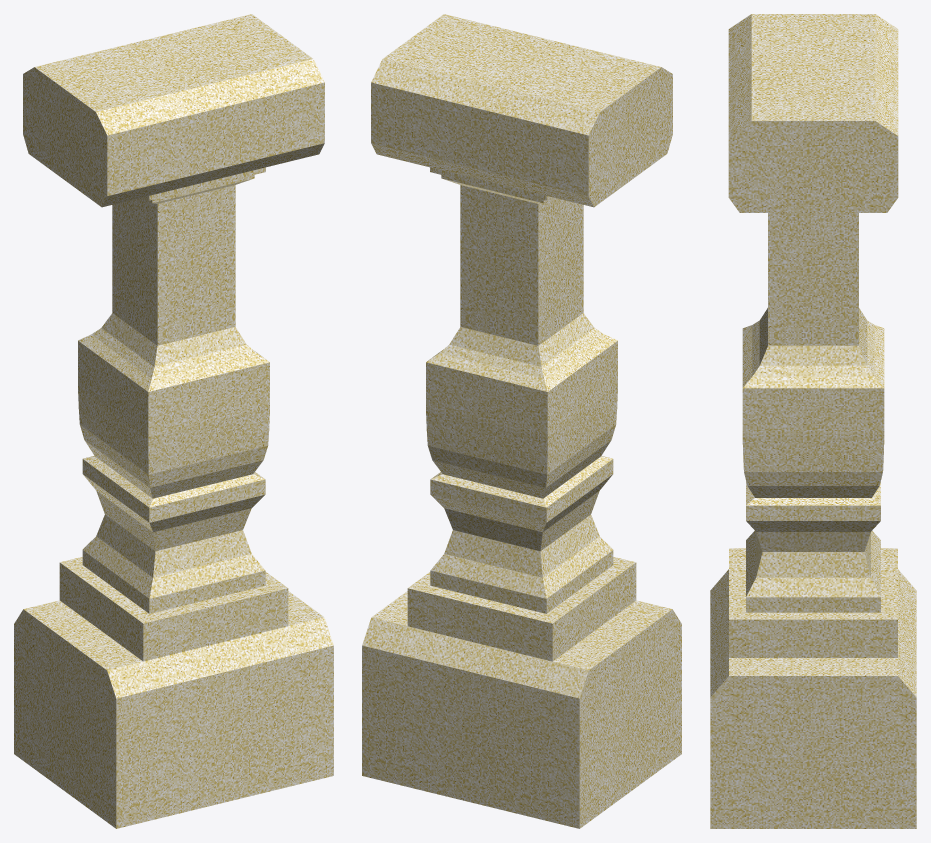
Rendered from column_balustrade.glb.
3 renders of one model, left to right at view 1: azimuth 30°, elevation 25°; view 2: azimuth 150°, elevation 25°; view 3: azimuth 270°, elevation 25°, orthographic.
Bounding box in the file's own units: 30 × 92.5 × 24.4.
Materials: 1 (1 with a texture image).
